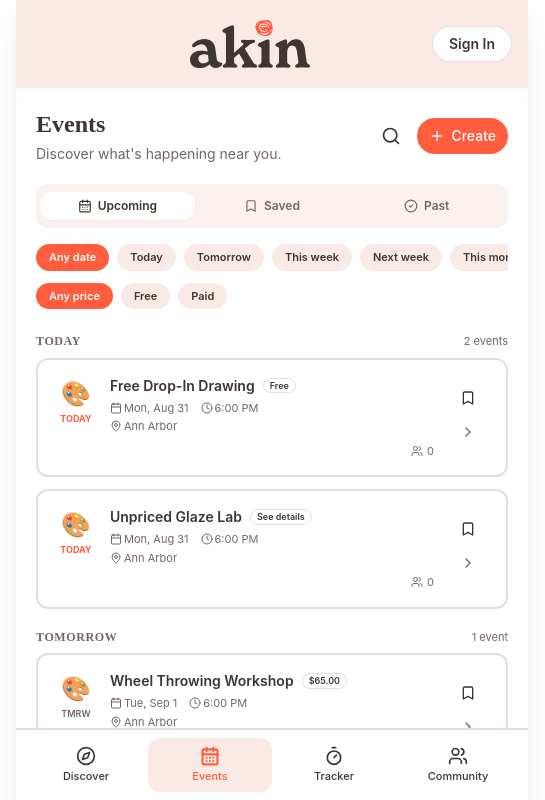
Test: /events browse filters › offers a way out when a filter empties the list
The width and height of the screenshot is (545, 800).
Click the button "Free": (146,296) [121,282,170,309]
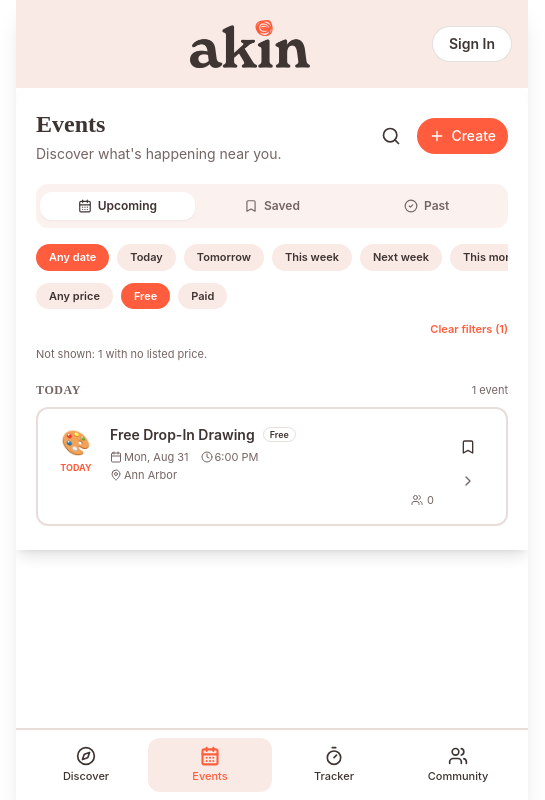
Click the button "Tomorrow": (224,257) [184,244,264,270]
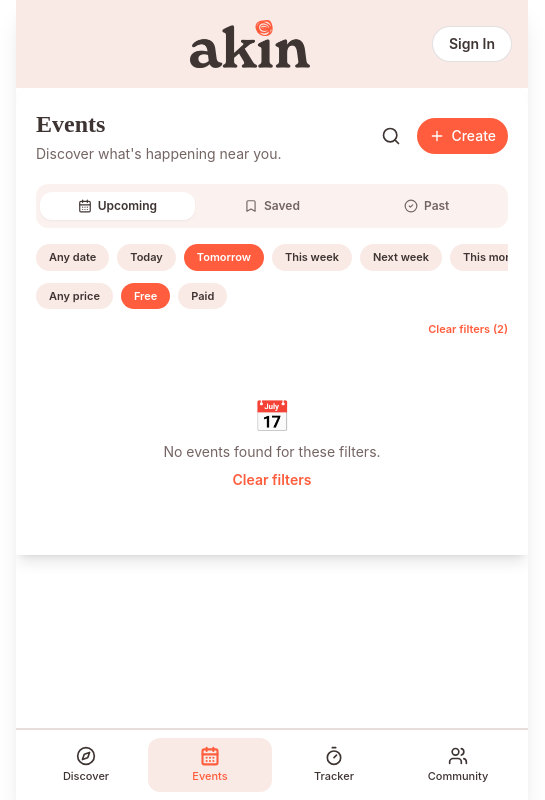
Now the text "No events found for these filters." is shown, box [163,442,381,460]
Click the button "Clear filters": (272,480) [232,470,311,490]
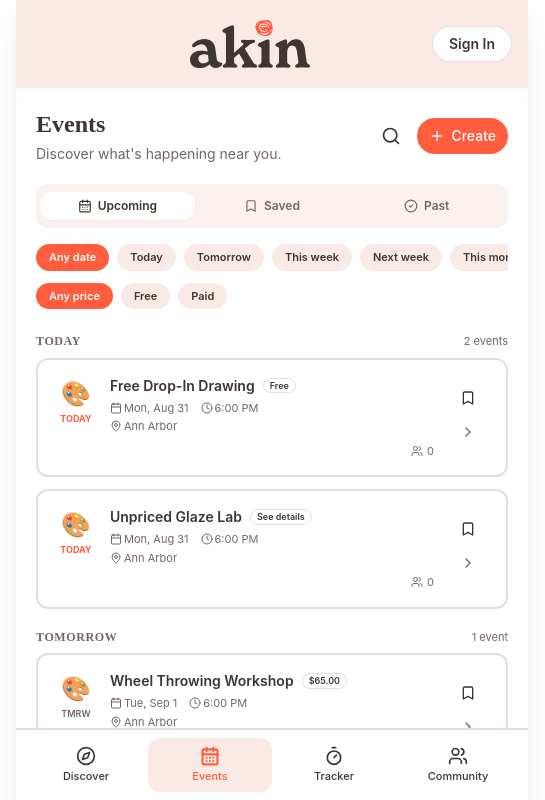
Now the text "Wheel Throwing Workshop" is shown, box [110,671,294,691]
